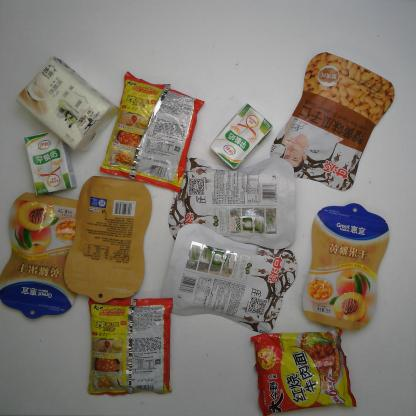Dried Fruit: (267, 51, 396, 194), (162, 223, 298, 334), (166, 154, 300, 250), (62, 174, 154, 305), (301, 201, 391, 333), (0, 191, 88, 322)
Instant Noodles: (97, 70, 207, 196), (250, 327, 358, 415), (87, 291, 175, 396)
Milk: (210, 102, 273, 170), (23, 131, 80, 195)
Tissue: (14, 56, 121, 154)
